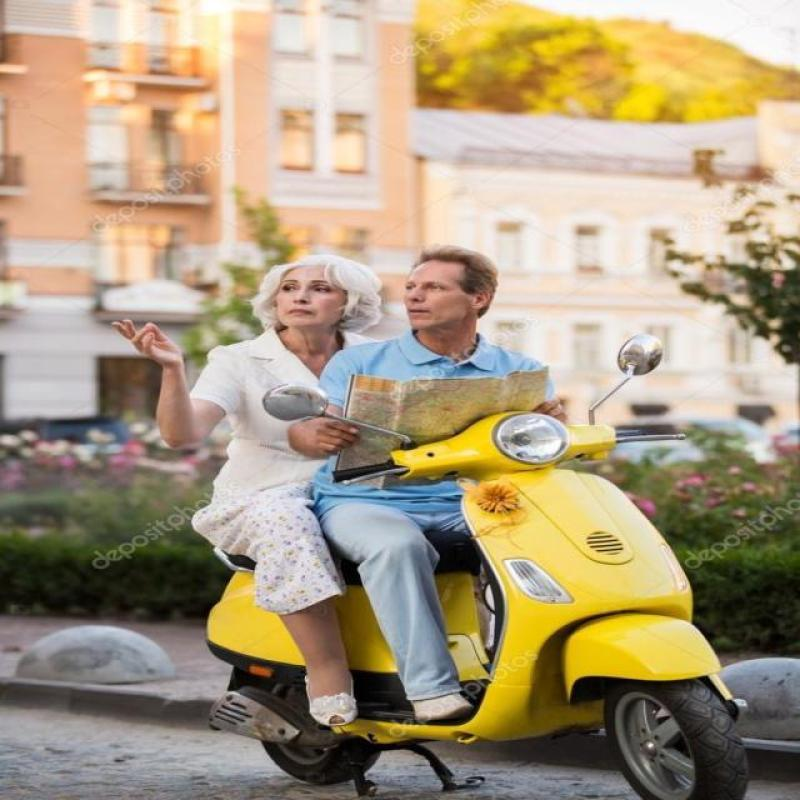nohelmet: (244, 242, 364, 346), (388, 248, 522, 332)
